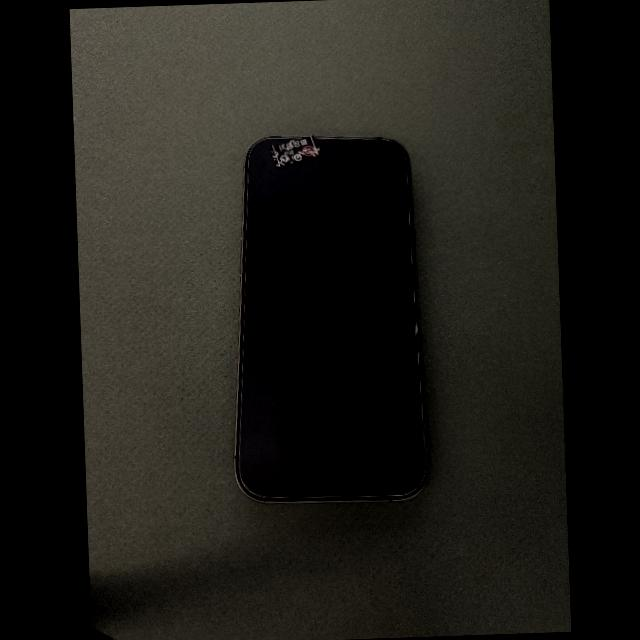phone: (234, 135, 430, 503)
sticker: (270, 135, 321, 167)
